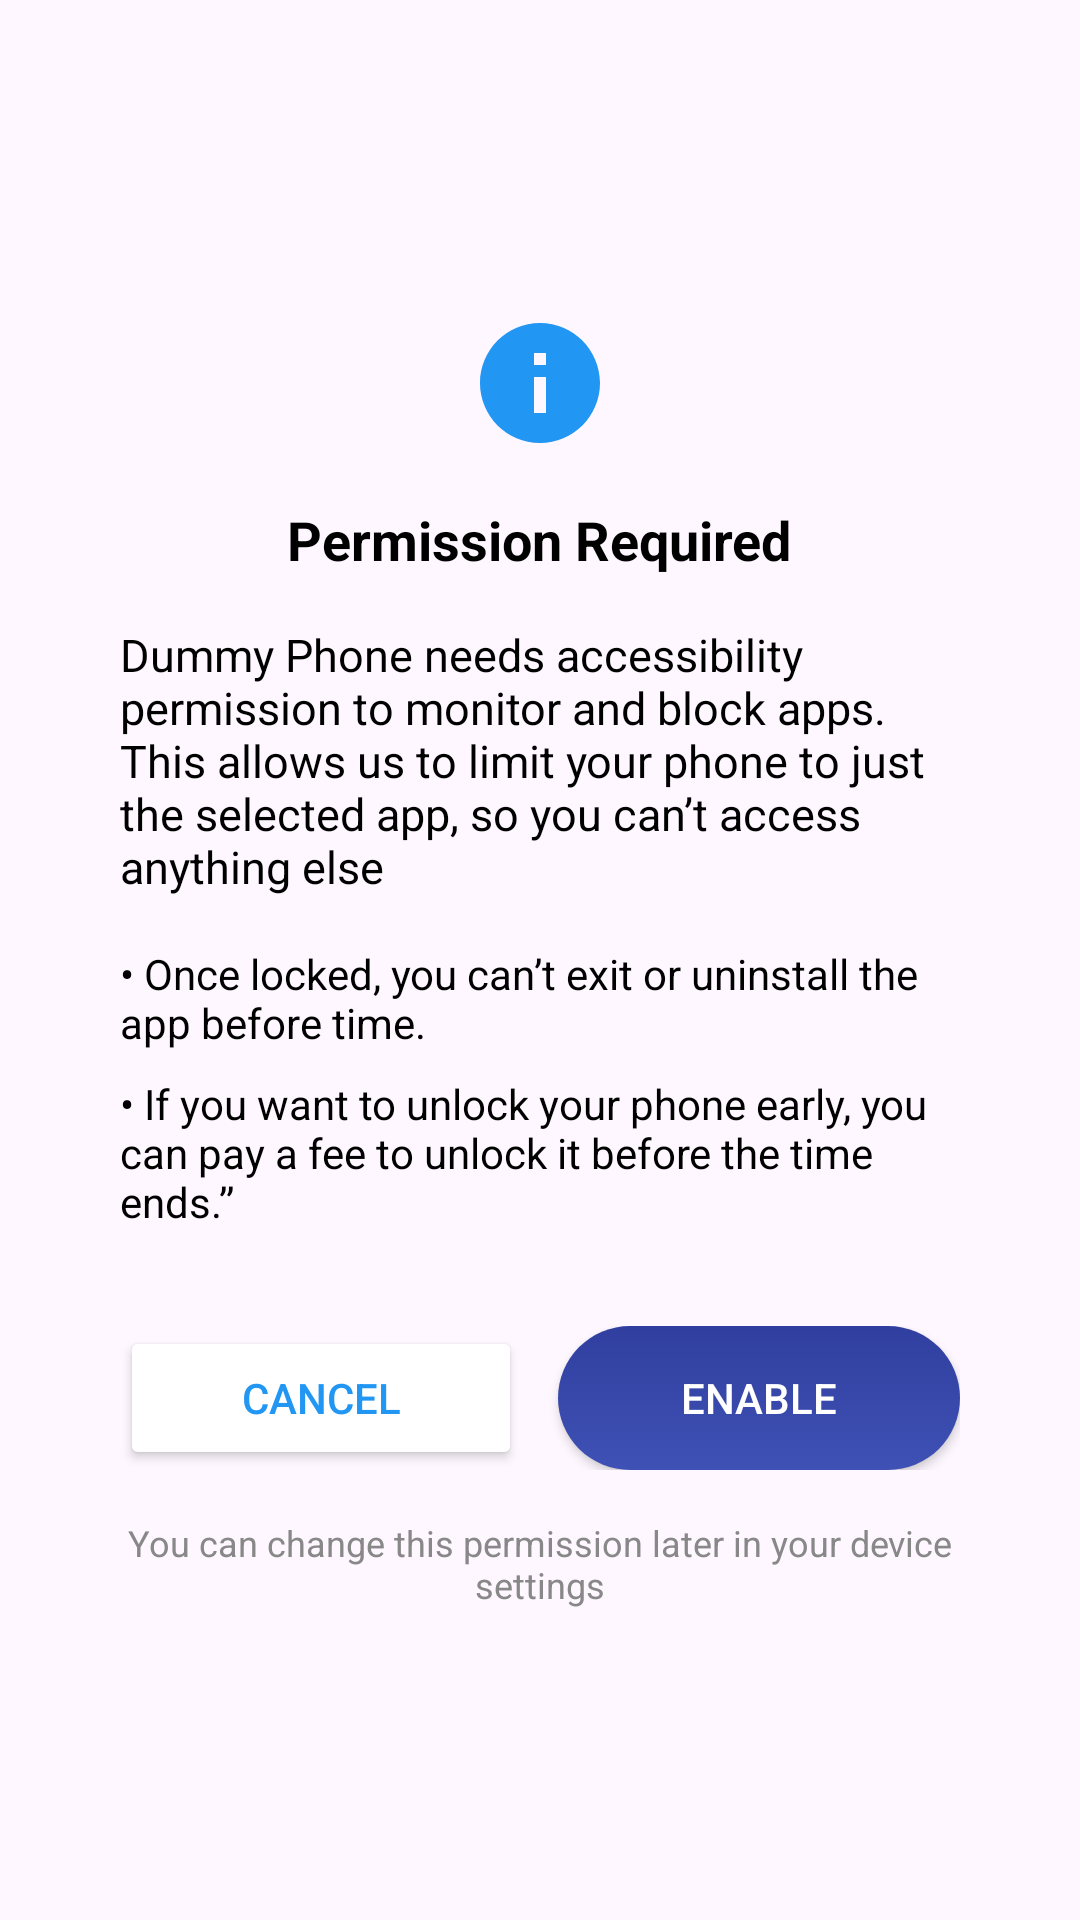

Named icons in this screenshot (1080*1920) and their bounding boxes, [left=x1, top=y1, right=x2, bottom=y2]:
info: [left=480, top=323, right=600, bottom=443]
